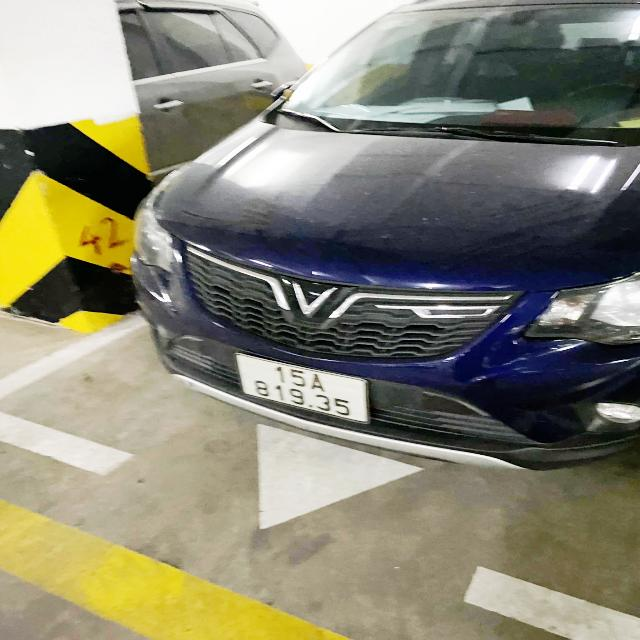license_plate: (231, 350, 373, 431)
